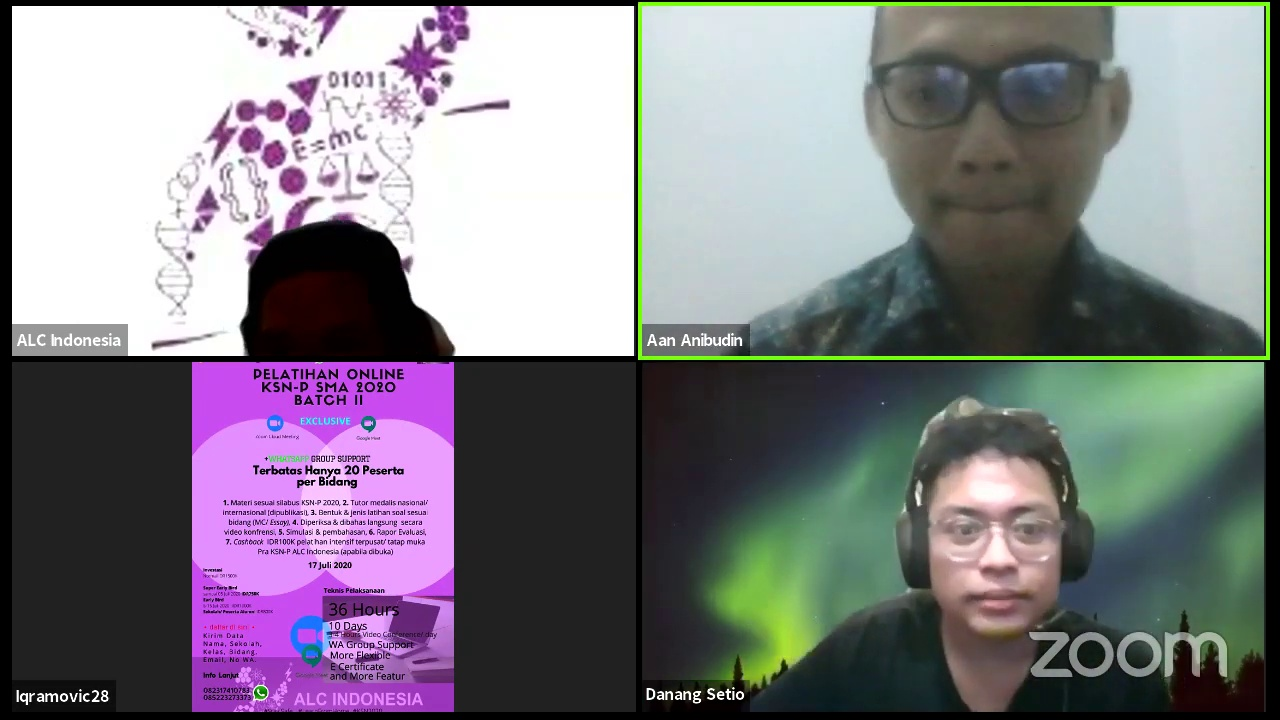Not Distracted: (860, 14, 1135, 265), (893, 419, 1090, 630), (238, 250, 413, 353)
